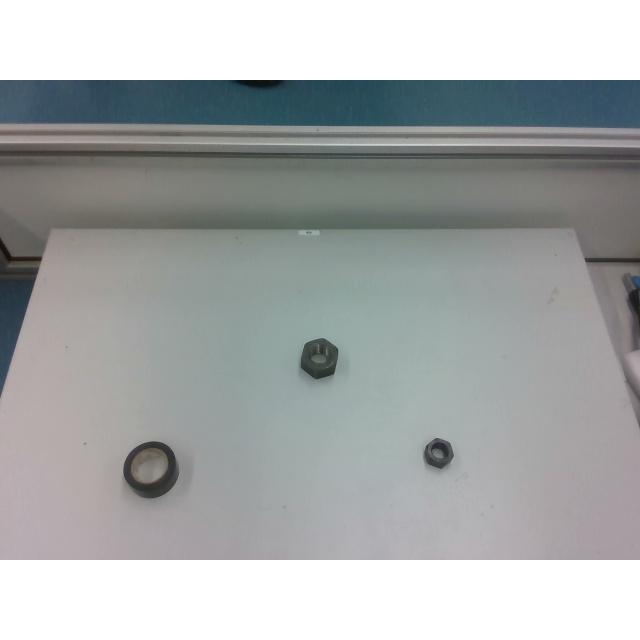M20: (423, 438, 453, 467)
M30: (300, 338, 338, 378)
